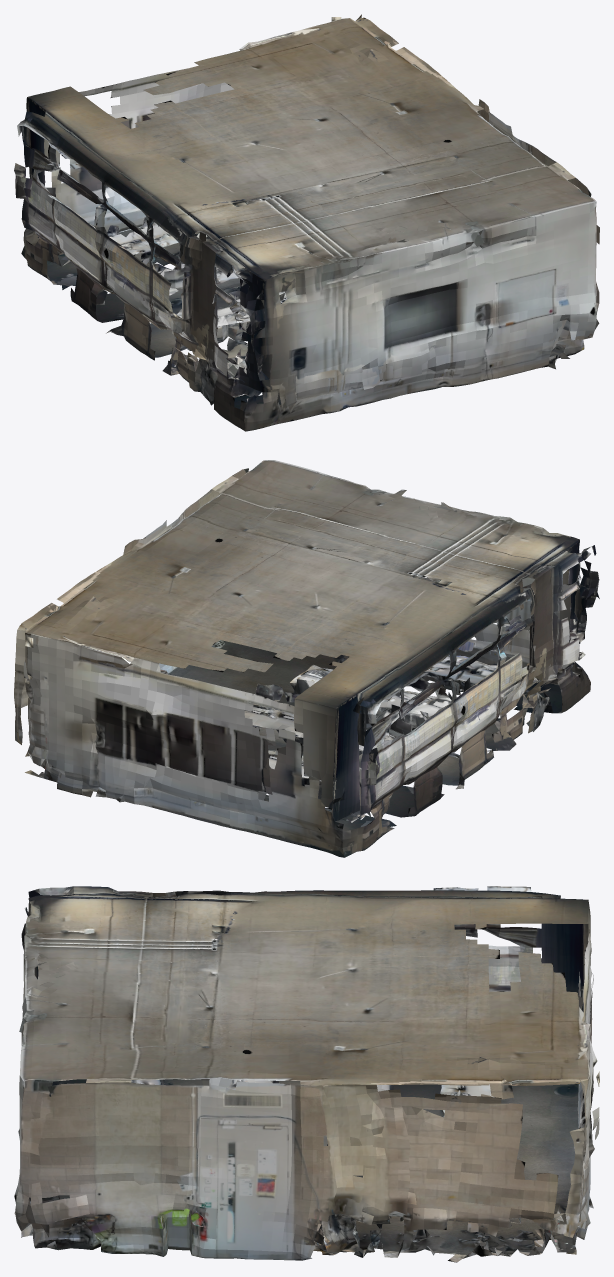
3 views of the same model, one above another, from view 1: azimuth 30°, elevation 25°; view 2: azimuth 150°, elevation 25°; view 3: azimuth 270°, elevation 25° (orthographic). The views are drawn at different scales.
Visible parts, largest first — view 1: 1_m112-IM; view 2: 1_m112-IM; view 3: 1_m112-IM.
Boxes of the visible parts, left/top/right/bottom form: 1_m112-IM: left=14, top=14, right=599, bottom=431; 1_m112-IM: left=14, top=460, right=599, bottom=857; 1_m112-IM: left=14, top=886, right=599, bottom=1262.
Bounding box in the file's own units: 801 × 352 × 947.
Materials: 1 (1 with a texture image).
